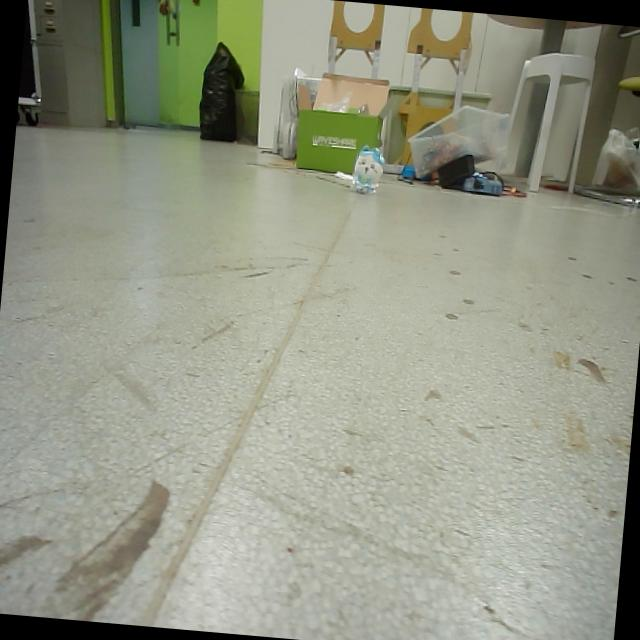xiaoba: (350, 145, 388, 196)
